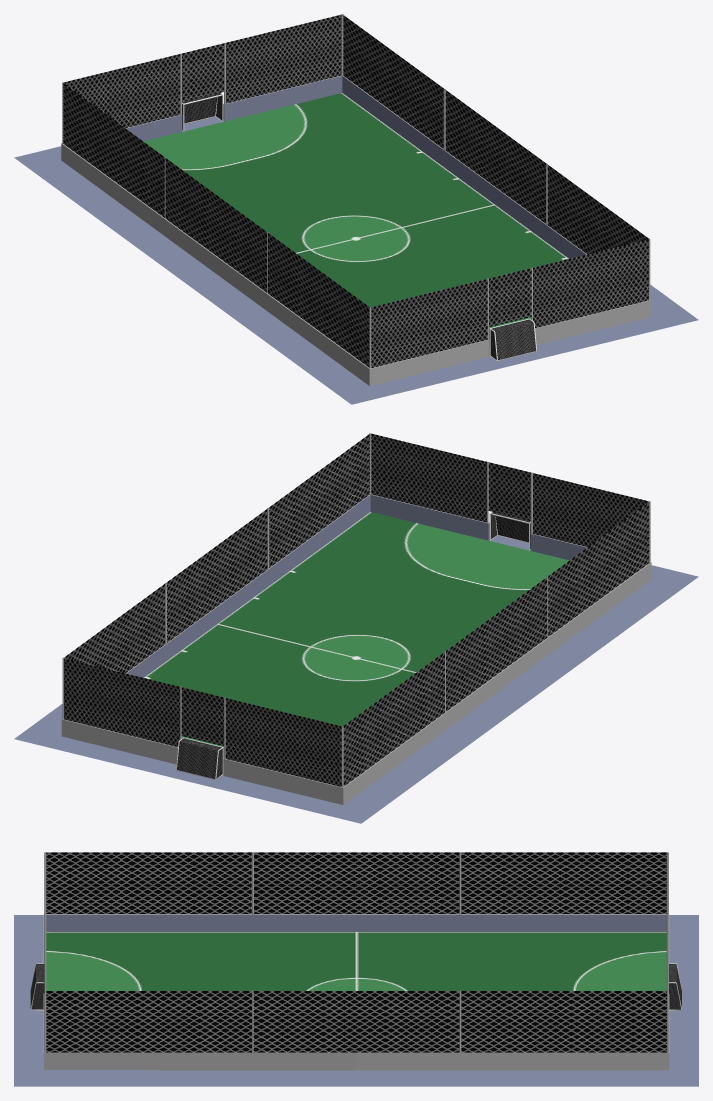
File: futsal_court.glb
3 views of the same model, one above another, from view 1: azimuth 30°, elevation 25°; view 2: azimuth 150°, elevation 25°; view 3: azimuth 270°, elevation 25° (orthographic).
Visible parts, largest first — view 1: grade_9, gramado_10, Plano_0, gol2_2, col grade_8, gol_1; view 2: grade_9, gramado_10, Plano_0, col grade_8, gol_1, gol2_2; view 3: grade_9, Plano_0, gramado_10, col grade_8, gol2_2, gol_1.
Boxes of the visible parts, x1,y1,x2,y2 form: grade_9: (63, 14, 648, 367); gramado_10: (143, 93, 568, 339); Plano_0: (14, 75, 698, 404); gol2_2: (489, 318, 536, 361); col grade_8: (62, 14, 650, 368); gol_1: (182, 92, 223, 131); grade_9: (64, 433, 649, 786); gramado_10: (144, 512, 569, 758); Plano_0: (14, 494, 698, 823); col grade_8: (62, 433, 650, 787); gol_1: (176, 737, 223, 779); gol2_2: (489, 511, 530, 550); grade_9: (46, 852, 666, 1052); Plano_0: (14, 914, 698, 1086); gramado_10: (46, 932, 666, 990); col grade_8: (44, 852, 668, 1052); gol2_2: (30, 963, 44, 1010); gol_1: (669, 963, 681, 1010).
Size of the model in its own units: 27.5 by 5.9 by 46.3.
7 materials, 5 textured.
